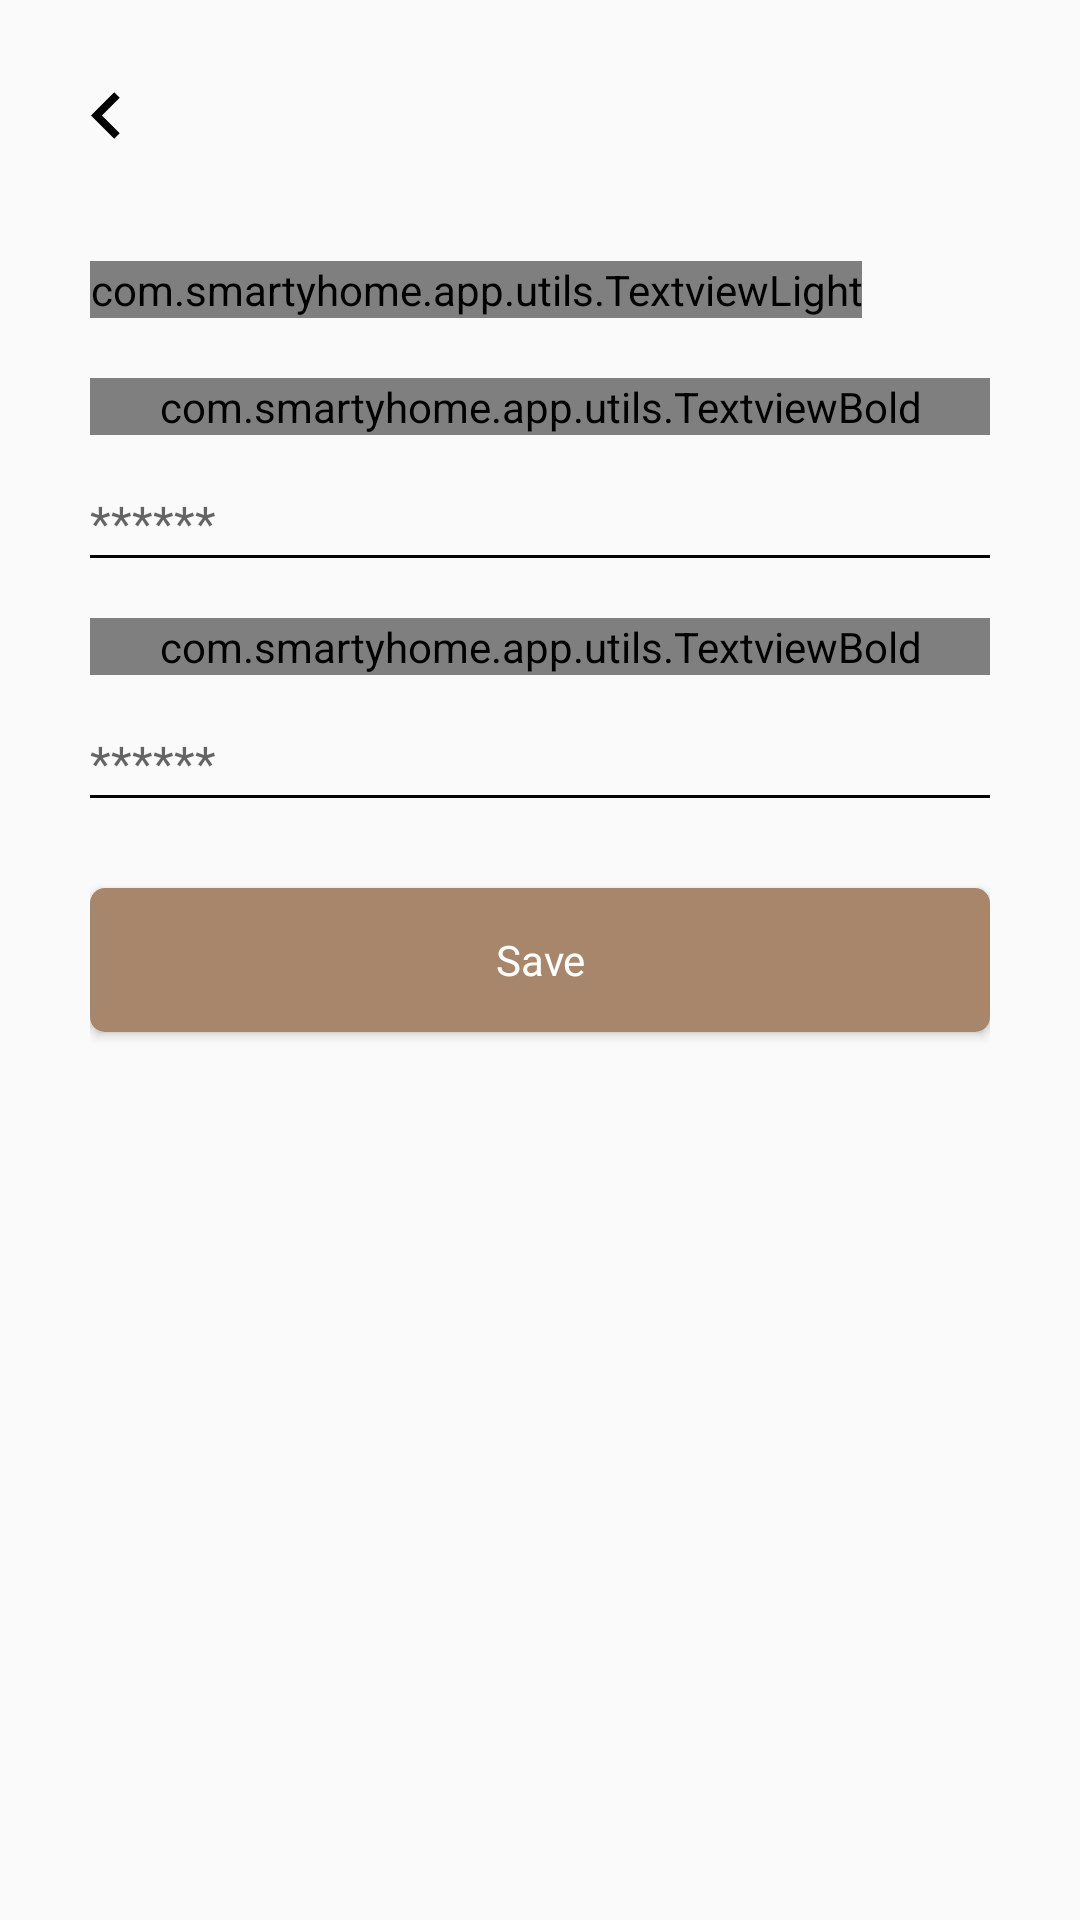

Icons on this 1080 × 1920 Android screen, each with the point to tap as point (x, y):
back: point (105, 115)
